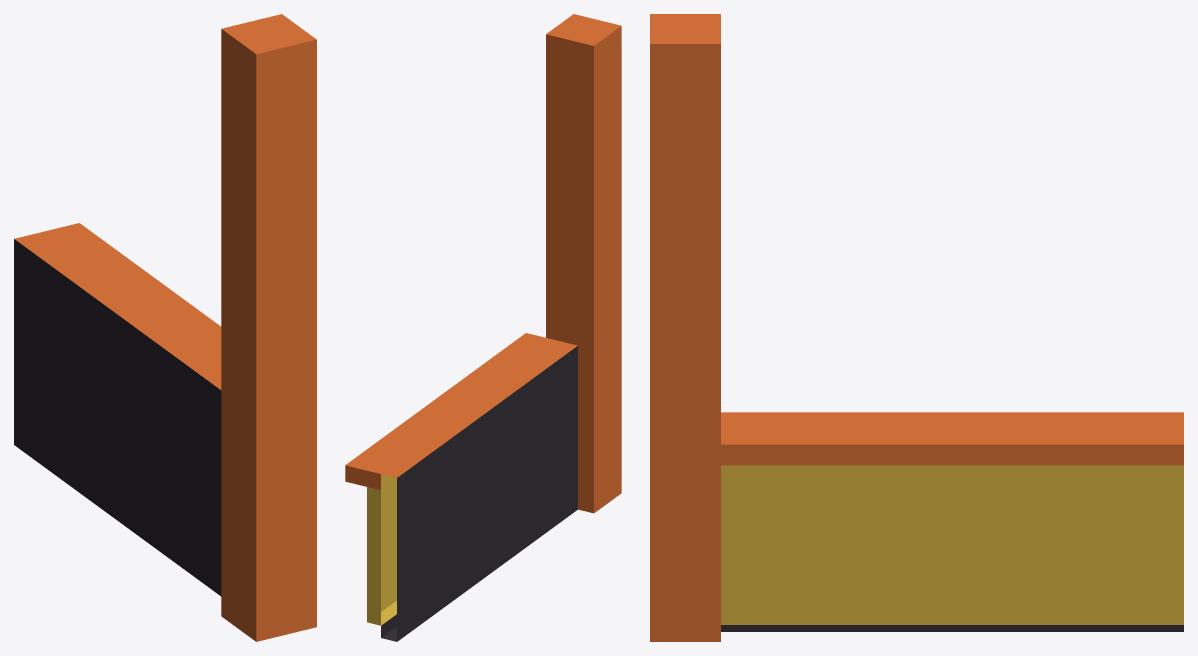
File: Counter Asset.fbx
The picture shows the model from 3 angles, left to right: view 1: azimuth 30°, elevation 25°; view 2: azimuth 150°, elevation 25°; view 3: azimuth 270°, elevation 25°; orthographic projection. The views are drawn at different scales.
Visible parts, largest first — view 1: Pillar, Counter; view 2: Counter, Pillar; view 3: Counter, Pillar.
Part boxes in pixels (box(x1,y1,x2,y2)): Pillar: box(221, 14, 316, 641); Counter: box(14, 223, 221, 596); Counter: box(345, 333, 577, 641); Pillar: box(546, 14, 621, 513); Counter: box(721, 412, 1183, 631); Pillar: box(650, 14, 720, 641).
Size of the model in its own units: 61.26 by 402 by 326.
